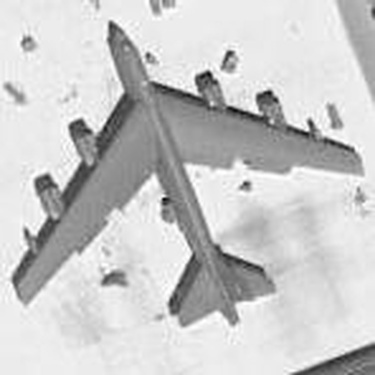airplane: (1, 13, 366, 345)
